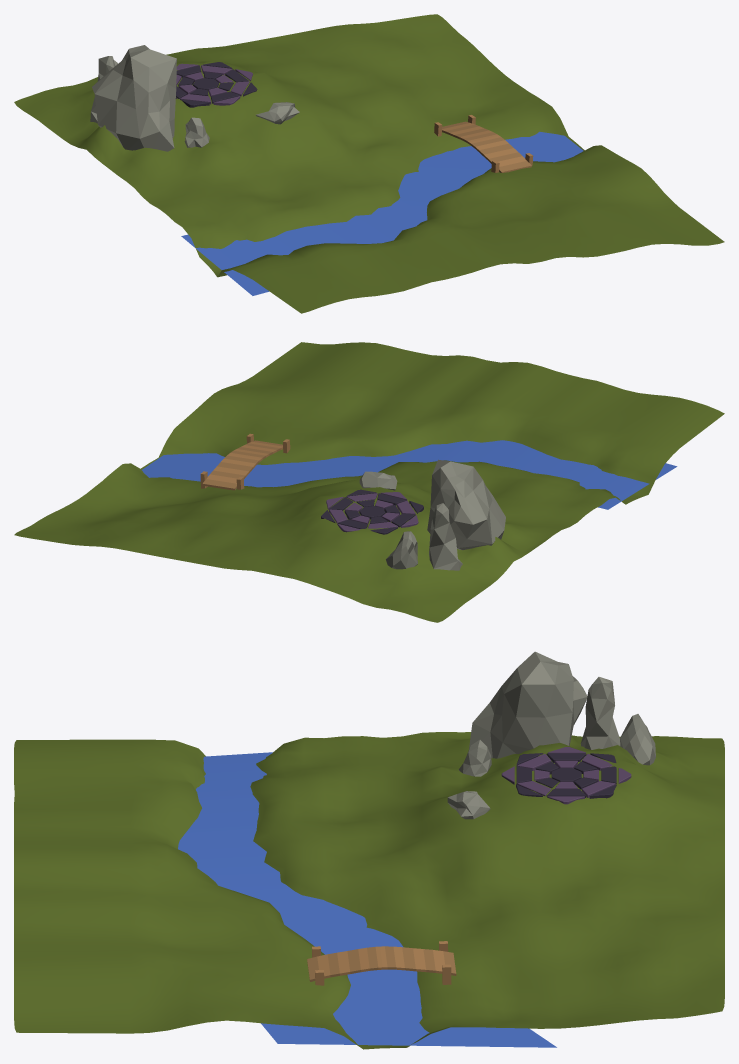
The model's file is BaseEnvironment.fbx.
3 renders of one model, top to bottom at view 1: azimuth 30°, elevation 25°; view 2: azimuth 150°, elevation 25°; view 3: azimuth 270°, elevation 25°, orthographic. The views are drawn at different scales.
Parts seen in each view (by area): view 1: Ground, River, Rock, Mage circle, Bridge, Rock4, Rock5; view 2: Ground, River, Rock, Mage circle, Bridge, Rock2, Rock3, Rock5; view 3: Ground, River, Rock, Mage circle, Bridge, Rock2, Rock3, Rock5, Rock4.
Boxes of the visible parts, bbox=[...] form: Ground: bbox=[14, 14, 724, 313]; River: bbox=[181, 131, 583, 295]; Rock: bbox=[92, 45, 176, 151]; Mage circle: bbox=[175, 62, 257, 107]; Bridge: bbox=[434, 115, 533, 172]; Rock4: bbox=[184, 117, 209, 147]; Rock5: bbox=[256, 102, 299, 124]; Ground: bbox=[14, 342, 724, 622]; River: bbox=[142, 440, 677, 509]; Rock: bbox=[427, 459, 505, 550]; Mage circle: bbox=[321, 489, 423, 534]; Bridge: bbox=[200, 433, 290, 490]; Rock2: bbox=[429, 503, 462, 570]; Rock3: bbox=[386, 531, 417, 569]; Rock5: bbox=[359, 471, 397, 490]; Ground: bbox=[14, 732, 724, 1049]; River: bbox=[178, 752, 556, 1047]; Rock: bbox=[469, 651, 587, 758]; Mage circle: bbox=[501, 747, 631, 804]; Bridge: bbox=[307, 941, 456, 985]; Rock2: bbox=[580, 677, 620, 749]; Rock3: bbox=[620, 714, 655, 765]; Rock5: bbox=[447, 791, 490, 819]; Rock4: bbox=[458, 739, 491, 776].
Size of the model in its own units: 3777 by 1261 by 4384.
